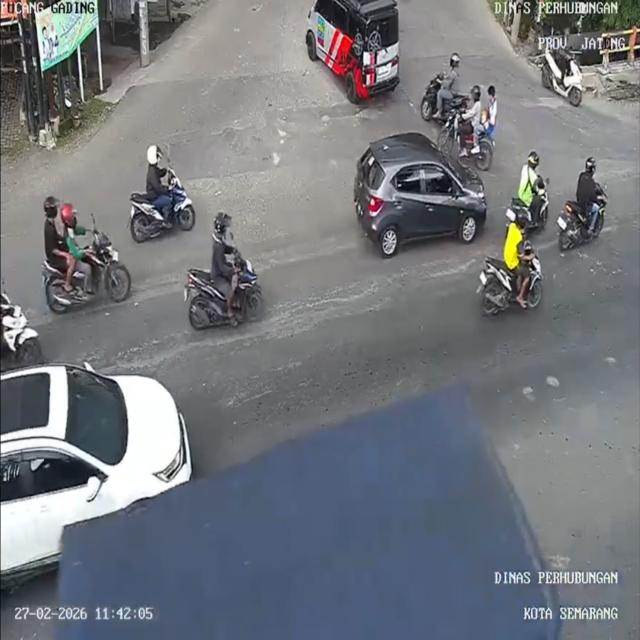motorcycle: (42, 243, 136, 312), (179, 262, 264, 332), (481, 245, 543, 318), (128, 189, 203, 244), (0, 286, 42, 361), (445, 116, 490, 172), (506, 190, 555, 232), (561, 202, 595, 256), (418, 88, 462, 117)
person: (142, 138, 177, 205), (202, 210, 235, 274), (56, 195, 86, 265), (42, 195, 64, 262), (502, 213, 526, 271), (576, 154, 601, 207), (517, 150, 540, 194), (462, 80, 482, 130), (441, 48, 459, 92), (486, 84, 499, 129)
rider_region: (36, 193, 132, 312), (184, 212, 264, 334), (479, 212, 544, 320), (126, 142, 196, 241), (558, 152, 610, 256), (442, 84, 499, 170), (417, 46, 468, 117), (510, 150, 550, 228)
